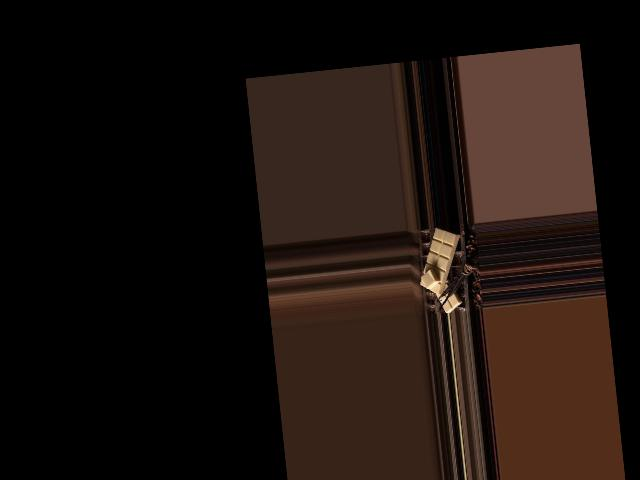chocolate: (415, 226, 464, 298)
